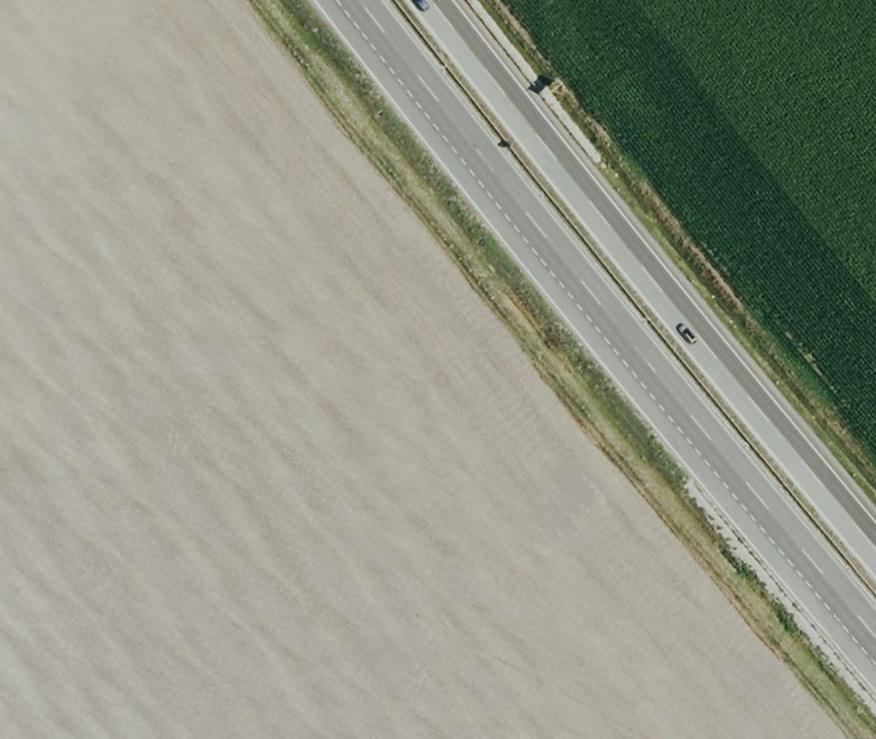field: (0, 3, 840, 736), (510, 0, 876, 483)
